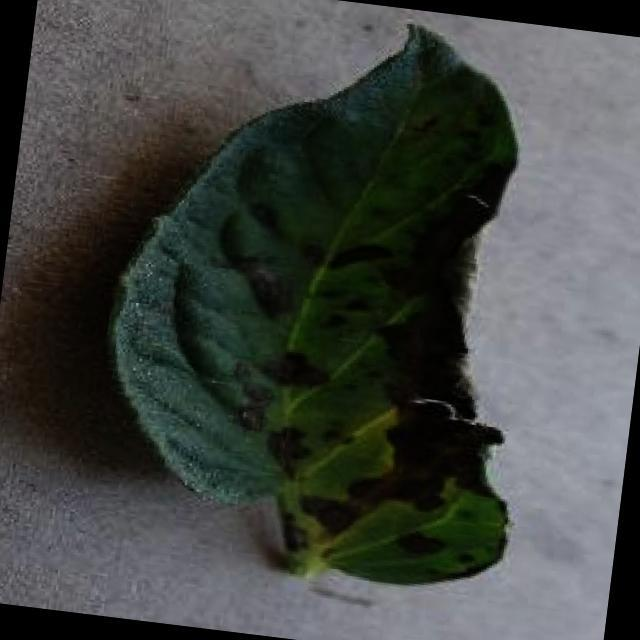Tomato Early blight leaf: (72, 0, 575, 603)
